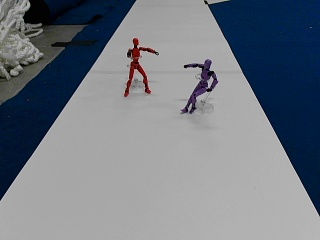pedestrian: (124, 38, 159, 96), (181, 57, 217, 113)
